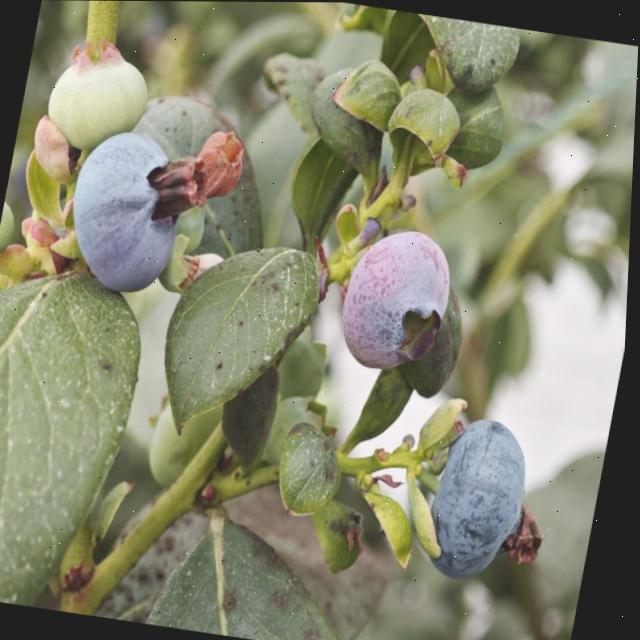RipeBlueBerry: (58, 124, 203, 301), (422, 408, 555, 592)
Semi-RipeBlueBerry: (334, 218, 467, 381)
UnripeBlueBerry: (42, 36, 160, 153)
